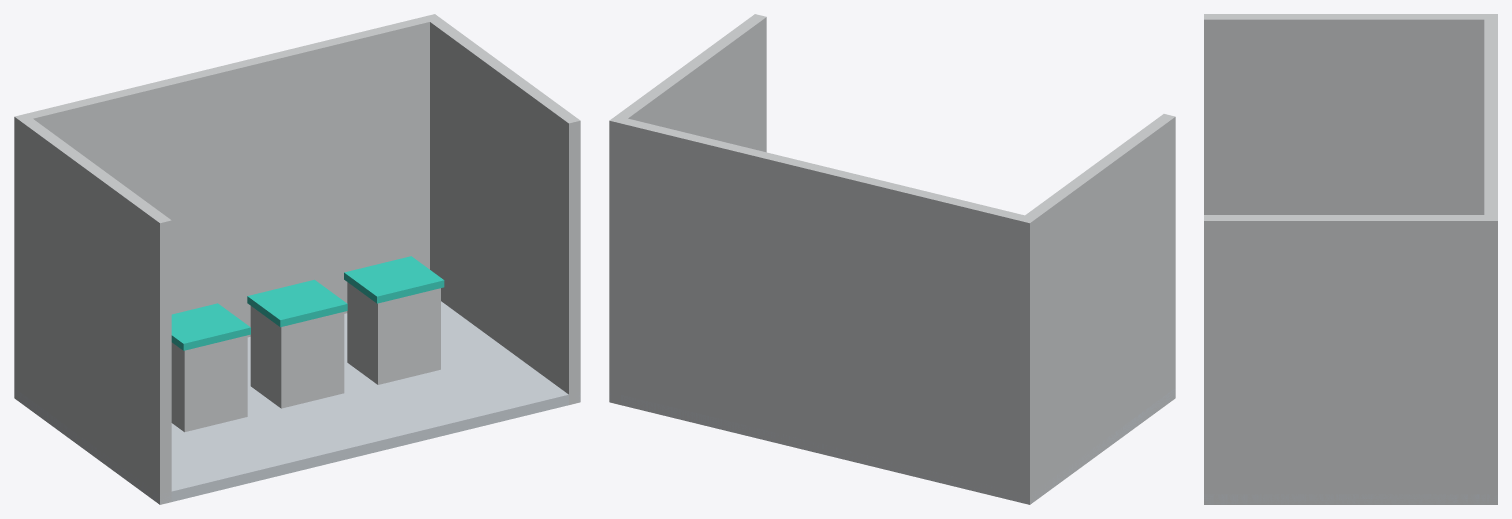
3 views of the same model, side by side, from view 1: azimuth 30°, elevation 25°; view 2: azimuth 150°, elevation 25°; view 3: azimuth 270°, elevation 25° (orthographic).
Visible parts, largest first — view 1: Exhibition Booth Concept; view 2: Exhibition Booth Concept; view 3: Exhibition Booth Concept.
Part boxes in pixels (box(x1,y1,x2,y2)): Exhibition Booth Concept: box(14, 14, 580, 504); Exhibition Booth Concept: box(609, 14, 1175, 504); Exhibition Booth Concept: box(1204, 14, 1497, 504).
Bounding box in the file's own units: 5 × 3.2 × 3.
